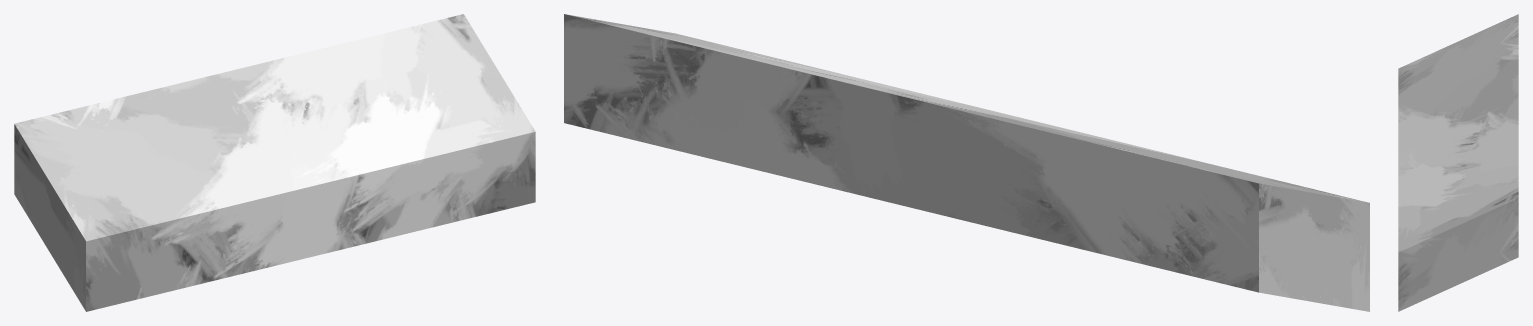
File: Village_Clay_Ledge_Front_A.fbx
3 views of the same model, side by side, from view 1: azimuth 30°, elevation 25°; view 2: azimuth 150°, elevation 25°; view 3: azimuth 270°, elevation 25° (orthographic). The views are drawn at different scales.
Visible parts, largest first — view 1: Village_Wall_2m_Roof_A.232; view 2: Village_Wall_2m_Roof_A.232; view 3: Village_Wall_2m_Roof_A.232.
Part boxes in pixels (bbox=[...]): Village_Wall_2m_Roof_A.232: bbox=[14, 14, 535, 311]; Village_Wall_2m_Roof_A.232: bbox=[564, 14, 1369, 311]; Village_Wall_2m_Roof_A.232: bbox=[1398, 14, 1518, 311].
Size of the model in its own units: 100 by 28.85 by 27.69.
